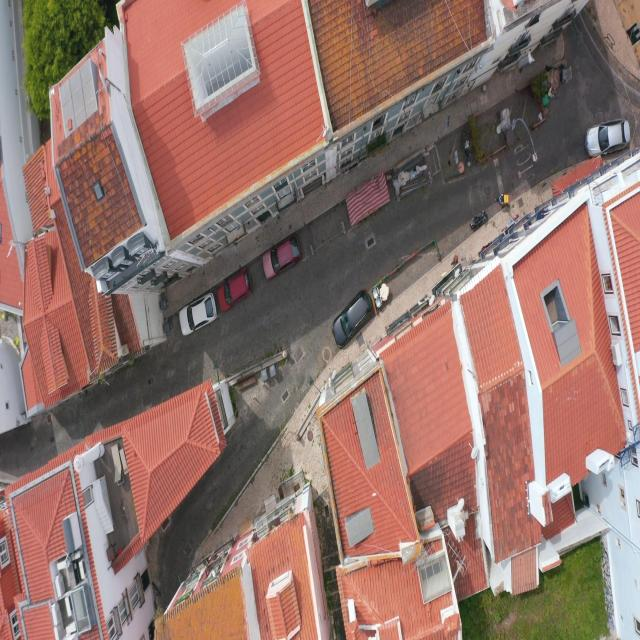Car: (333, 289, 373, 348), (584, 118, 630, 157), (179, 290, 217, 336), (264, 234, 302, 280), (217, 267, 252, 313), (470, 210, 488, 231), (626, 22, 640, 46)
